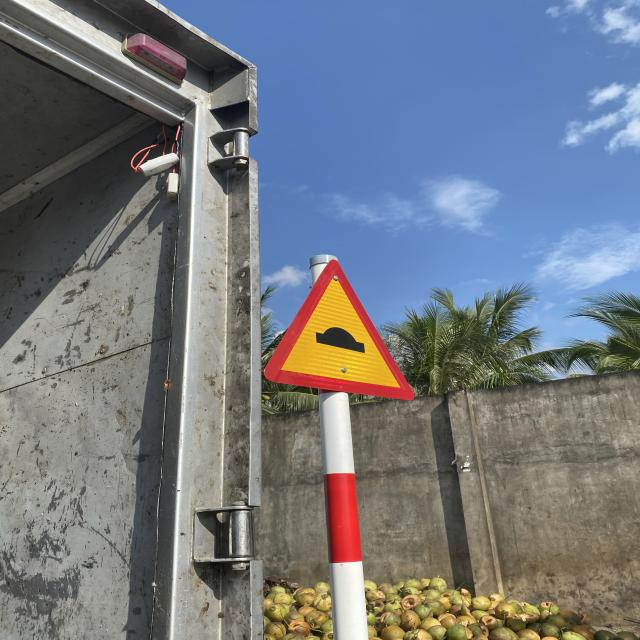Duong_Cong_Ben_Phai: (261, 258, 415, 402)
